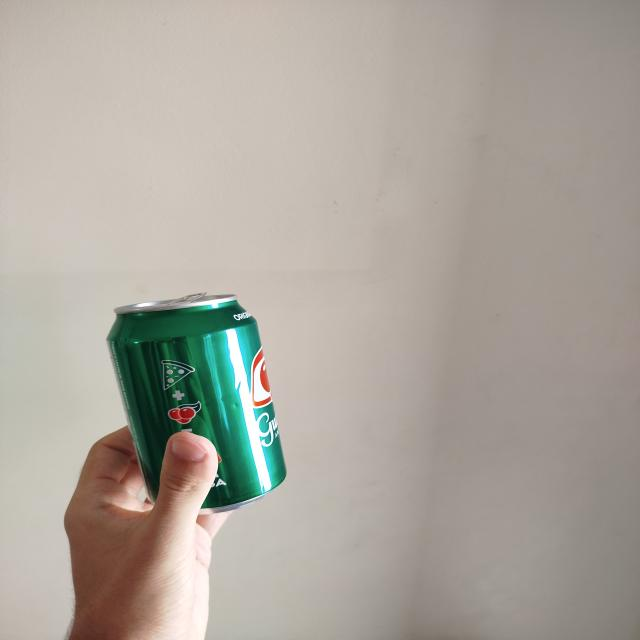Guarana: (106, 294, 286, 513)
